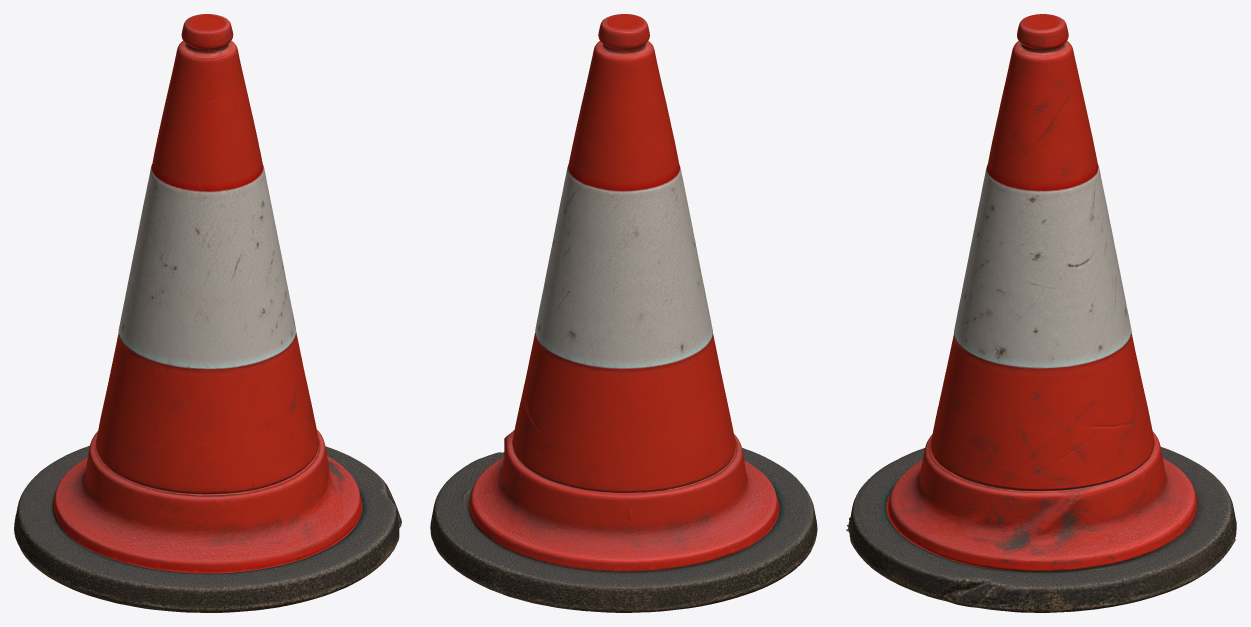
The model's file is traffic_cone_web.glb.
The picture shows the model from 3 angles, left to right: view 1: azimuth 30°, elevation 25°; view 2: azimuth 150°, elevation 25°; view 3: azimuth 270°, elevation 25°; orthographic projection.
Visible parts, largest first — view 1: tripo_node_74d97ea0-cc55-484b-b350-100f08c1e45d; view 2: tripo_node_74d97ea0-cc55-484b-b350-100f08c1e45d; view 3: tripo_node_74d97ea0-cc55-484b-b350-100f08c1e45d.
Part boxes in pixels (x1,y1,x2,y2): tripo_node_74d97ea0-cc55-484b-b350-100f08c1e45d: (14,14,401,612); tripo_node_74d97ea0-cc55-484b-b350-100f08c1e45d: (430,14,817,612); tripo_node_74d97ea0-cc55-484b-b350-100f08c1e45d: (846,14,1236,612).
Size of the model in its own units: 0.6851 by 1 by 0.6916.
Materials: 1 (1 with a texture image).
